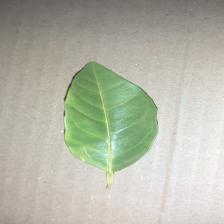greening: (54, 58, 167, 194)
